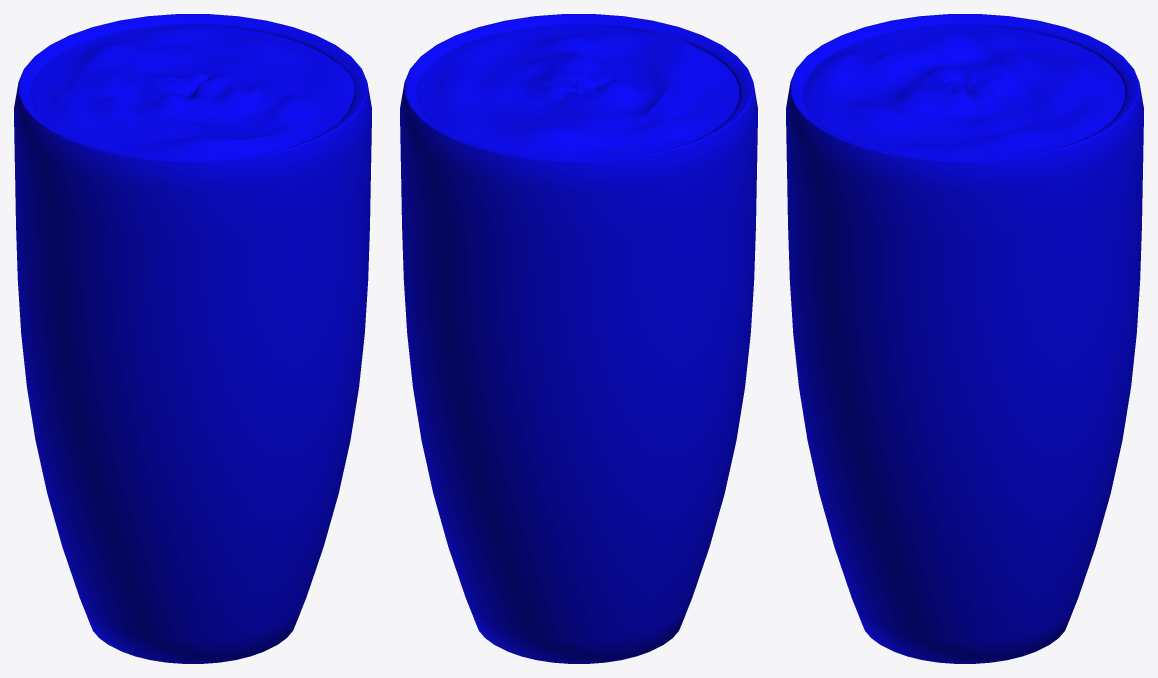
Rendered from Plants Vases03.fbx.
The picture shows the model from 3 angles, left to right: view 1: azimuth 30°, elevation 25°; view 2: azimuth 150°, elevation 25°; view 3: azimuth 270°, elevation 25°; orthographic projection.
Visible parts, largest first — view 1: Plants Vases03; view 2: Plants Vases03; view 3: Plants Vases03.
Part boxes in pixels (x1,y1,x2,y2): Plants Vases03: (14,14,371,663); Plants Vases03: (400,14,757,663); Plants Vases03: (786,14,1143,663).
Size of the model in its own units: 387 by 658 by 387.
